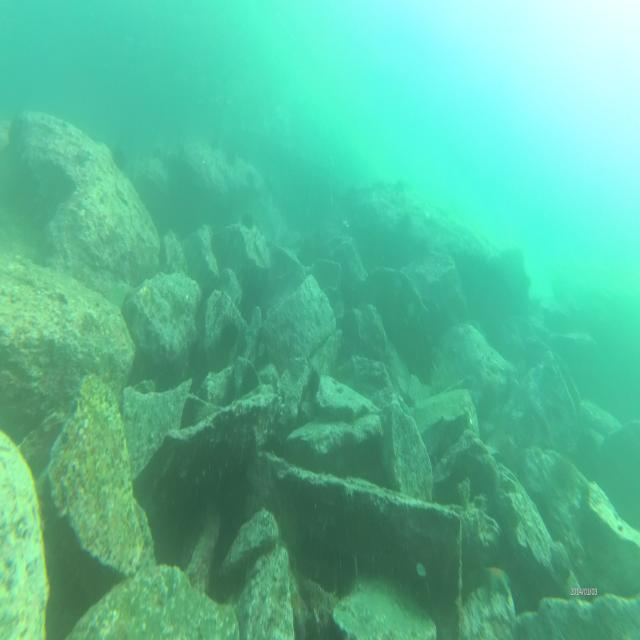echinus: (306, 364, 322, 403)
starfish: (481, 561, 512, 602)
